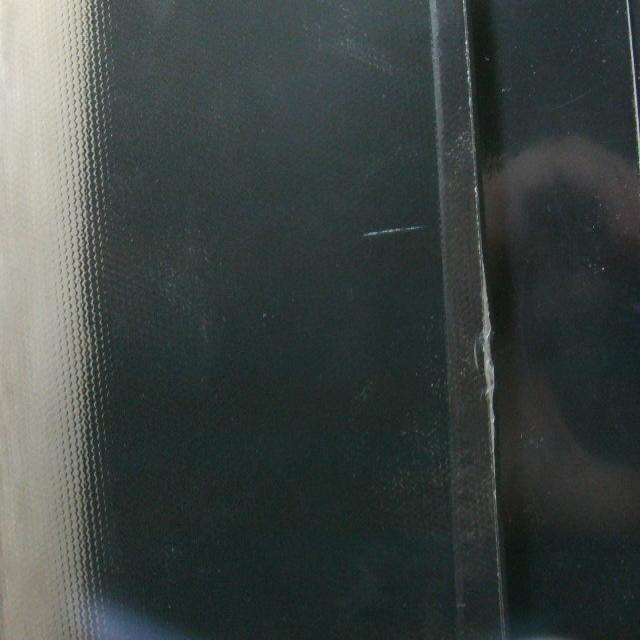edge_chip: (467, 272, 505, 425)
scratch: (359, 212, 429, 250)
